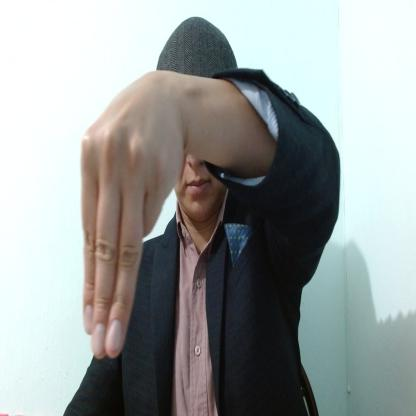M: (81, 68, 188, 362)
